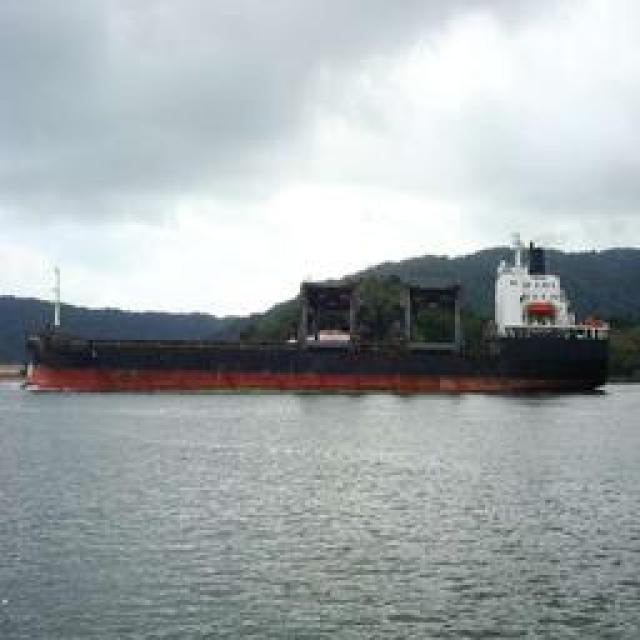ship2: (26, 233, 610, 396)
